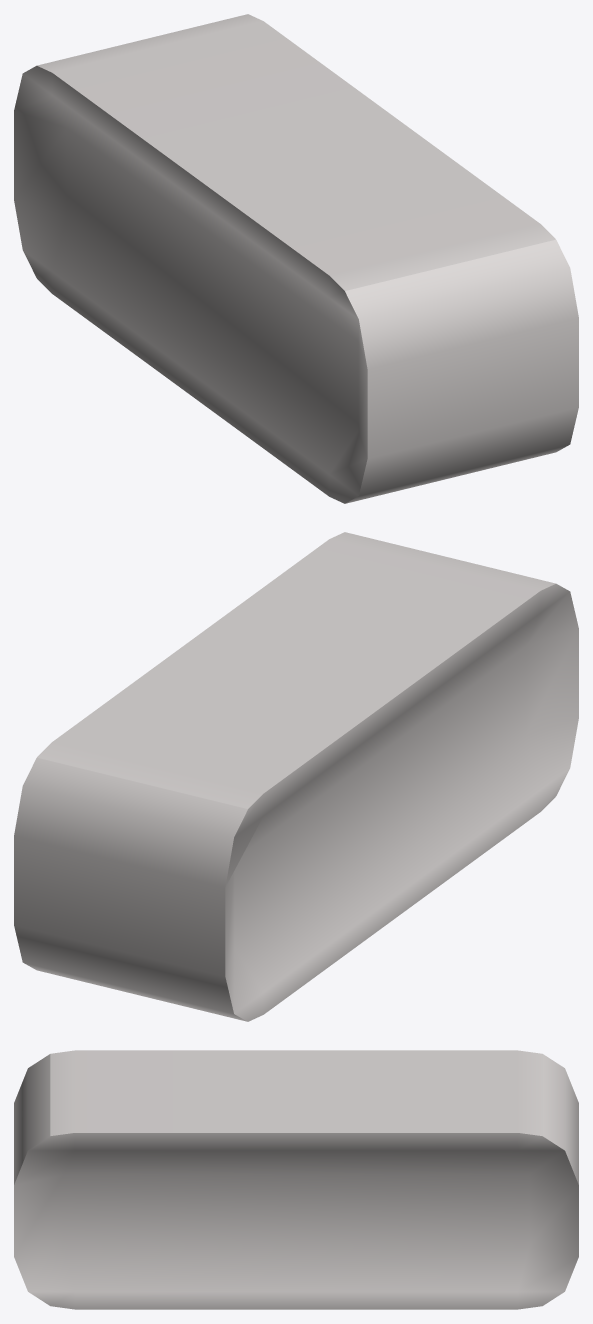
File: env_cashierTable.fbx
The picture shows the model from 3 angles, top to bottom: view 1: azimuth 30°, elevation 25°; view 2: azimuth 150°, elevation 25°; view 3: azimuth 270°, elevation 25°; orthographic projection. The views are drawn at different scales.
Parts seen in each view (by area): view 1: pCube78; view 2: pCube78; view 3: pCube78.
Part boxes in pixels (x1,y1,x2,y2): pCube78: (14,14,578,503); pCube78: (14,532,578,1021); pCube78: (14,1050,578,1309).
Size of the model in its own units: 1 by 1 by 2.9.
Materials: 1 (1 with a texture image).
